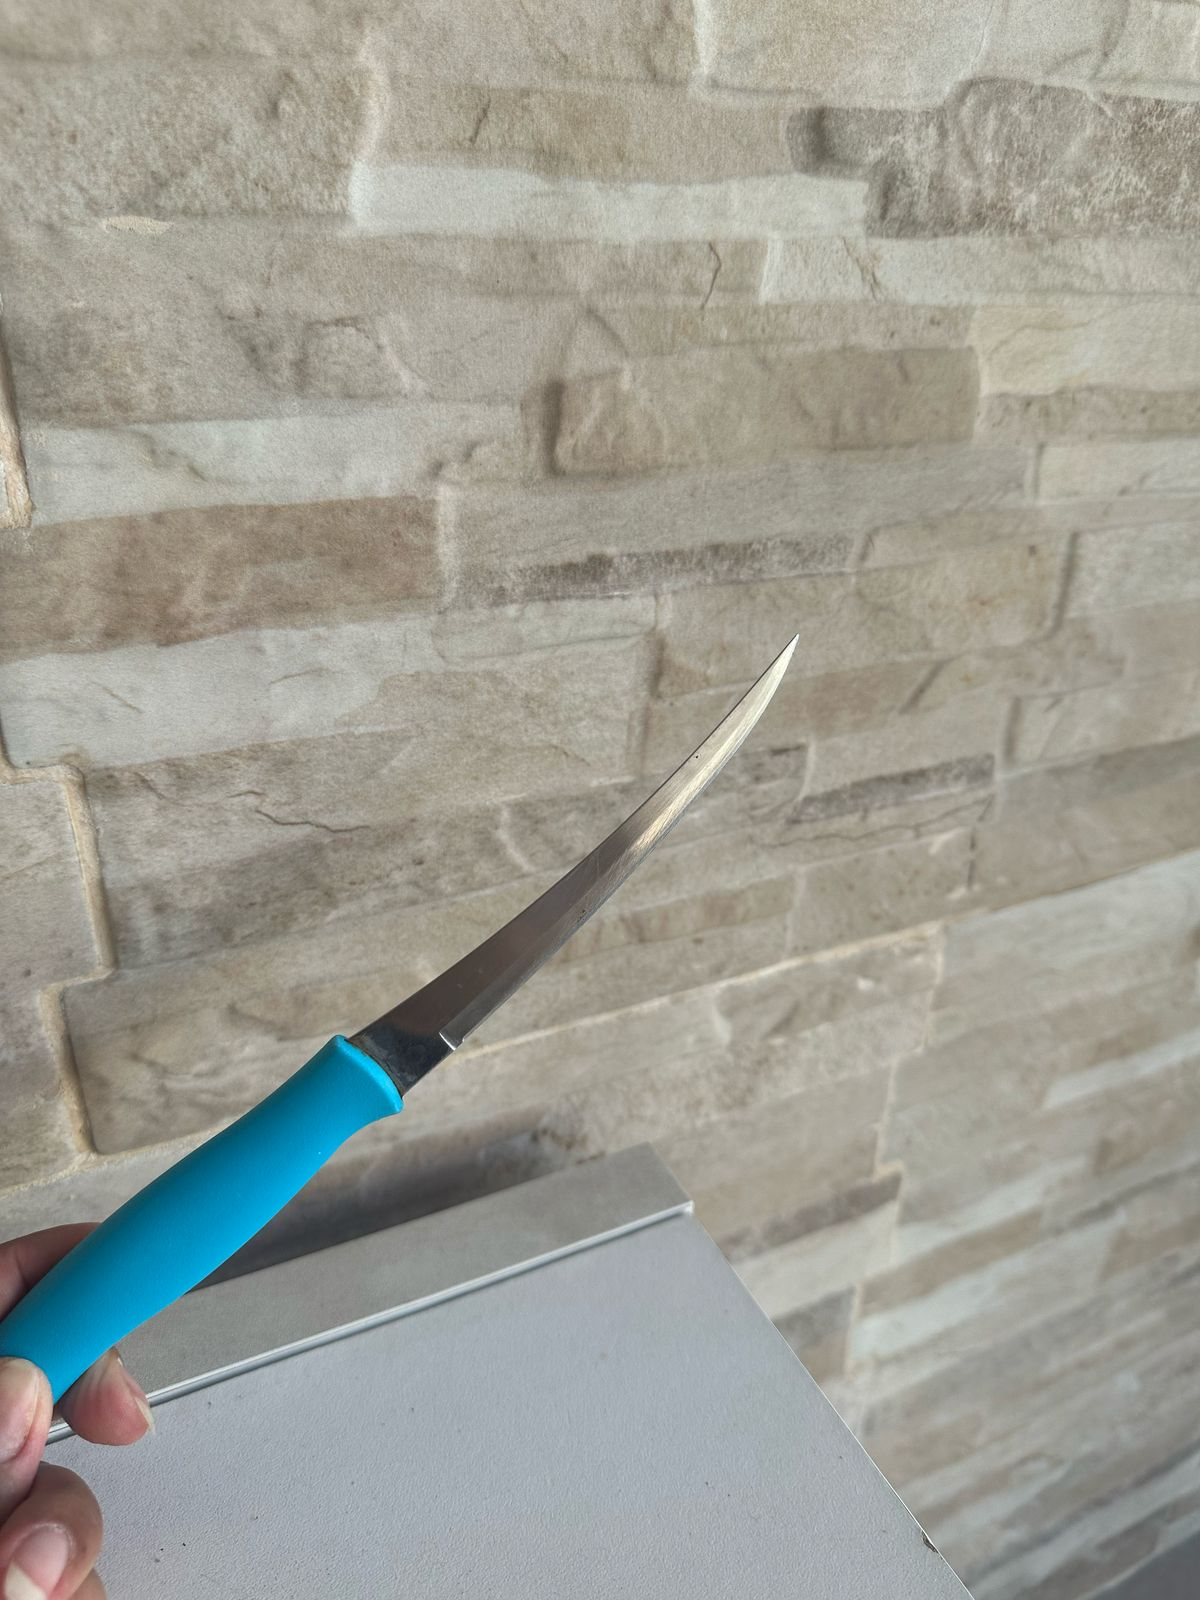faca: (111, 599, 879, 1322)
